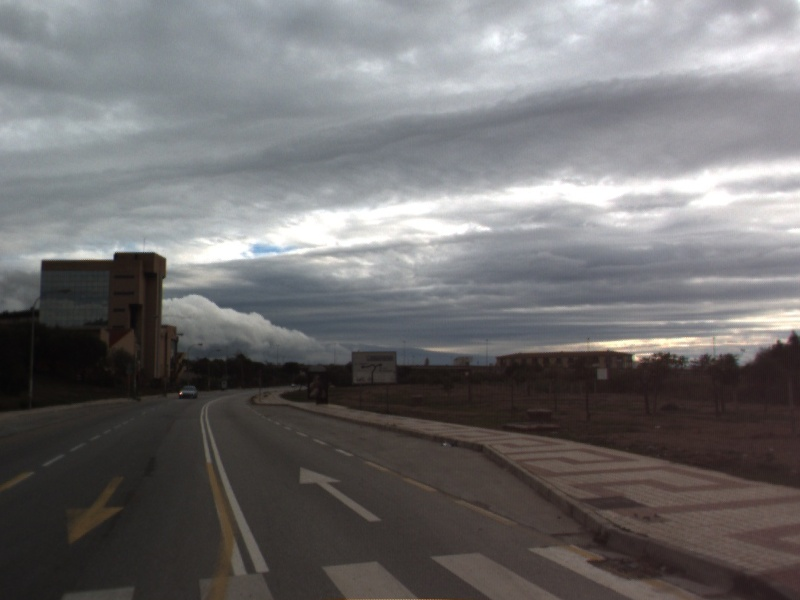STRAIGHT: (297, 464, 385, 524)
